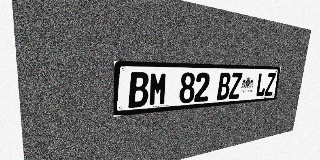2: (194, 72, 210, 102)
8: (179, 72, 196, 104)
B: (128, 72, 149, 108), (217, 73, 231, 100)
L: (255, 73, 267, 97)
M: (148, 72, 168, 106)
Z: (229, 73, 242, 99), (264, 73, 276, 96)
